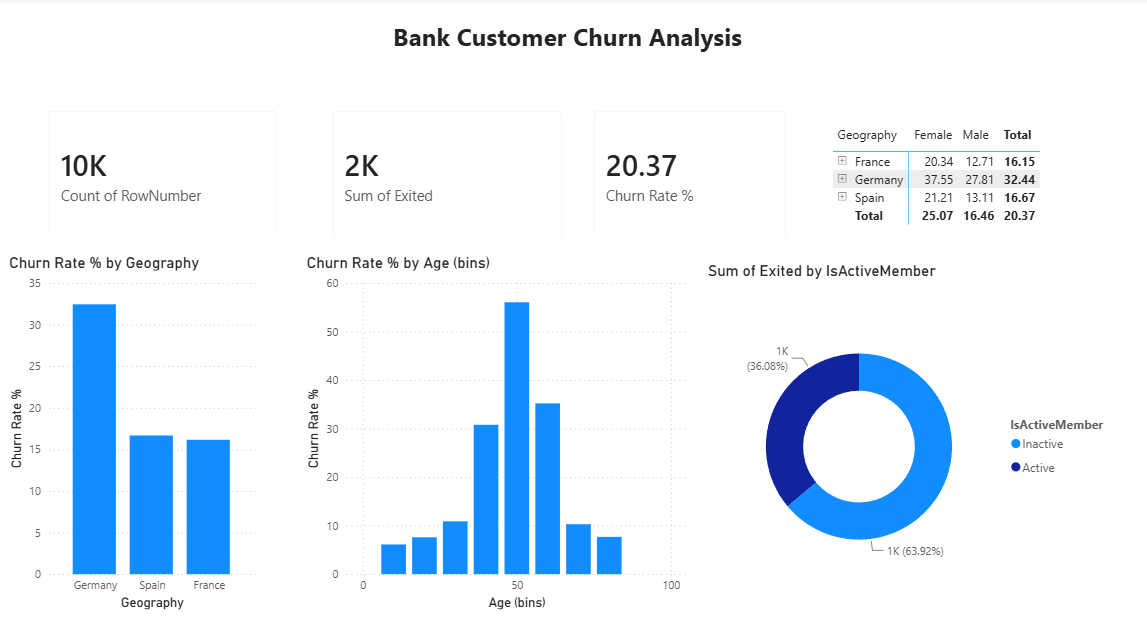

This screenshot's page, from the dashboard's own definition file:
{"tool":"powerbi","page":{"name":"PChurn Overview","canvas":[1280,720],"ordinal":0},"visuals":[{"type":"cardVisual","fields":{"Data":["CountNonNull(Churn_Modelling.RowNumber)"]},"box":[41.2,107,284,172.9],"z":0},{"type":"cardVisual","fields":{"Data":["Sum(Churn_Modelling.Exited)"]},"box":[352.7,107,286.8,172.9],"z":1000},{"type":"cardVisual","fields":{"Data":["Churn_Modelling.Churn Rate %"]},"box":[639.5,107,245.6,172.9],"z":2000},{"type":"clusteredColumnChart","fields":{"Category":["Churn_Modelling.Geography"],"Y":["Churn_Modelling.Churn Rate %"]},"box":[9.6,279.9,279.9,396.6],"z":3000},{"type":"clusteredColumnChart","fields":{"Y":["Churn_Modelling.Churn Rate %"],"Category":["Churn_Modelling.Age (bins)"]},"box":[336.2,279.9,426.8,396.6],"z":4000},{"type":"donutChart","fields":{"Category":["Churn_Modelling.IsActiveMember"],"Y":["Sum(Churn_Modelling.Exited)"]},"box":[776.7,289.5,459.7,387],"z":4001},{"type":"pivotTable","fields":{"Rows":["Churn_Modelling.Geography","Churn_Modelling.IsActiveMember"],"Columns":["Churn_Modelling.Gender"],"Values":["Churn_Modelling.Churn Rate %"]},"box":[913.9,134.5,337.6,131.7],"z":4002},{"type":"textbox","box":[100,100,300,300],"z":4003},{"type":"textbox","box":[430.9,19.2,679.2,98.8],"z":4004}]}

Visuals, with their boxes in screenshot pixels (x1, y1, x2, y2), scaled from the page's 1280x720 canvas onto the 1147x643 screenshot:
cardVisual - CountNonNull(Churn_Modelling.RowNumber): (left=37, top=96, right=291, bottom=250)
cardVisual - Sum(Churn_Modelling.Exited): (left=316, top=96, right=573, bottom=250)
cardVisual - Churn_Modelling.Churn Rate %: (left=573, top=96, right=793, bottom=250)
clusteredColumnChart - Churn_Modelling.Geography x Churn_Modelling.Churn Rate %: (left=9, top=250, right=259, bottom=604)
clusteredColumnChart - Churn_Modelling.Churn Rate % x Churn_Modelling.Age (bins): (left=301, top=250, right=684, bottom=604)
donutChart - Churn_Modelling.IsActiveMember x Sum(Churn_Modelling.Exited): (left=696, top=259, right=1108, bottom=604)
pivotTable - Churn_Modelling.Geography x Churn_Modelling.IsActiveMember: (left=819, top=120, right=1121, bottom=238)
textbox: (left=90, top=89, right=358, bottom=357)
textbox: (left=386, top=17, right=995, bottom=105)
